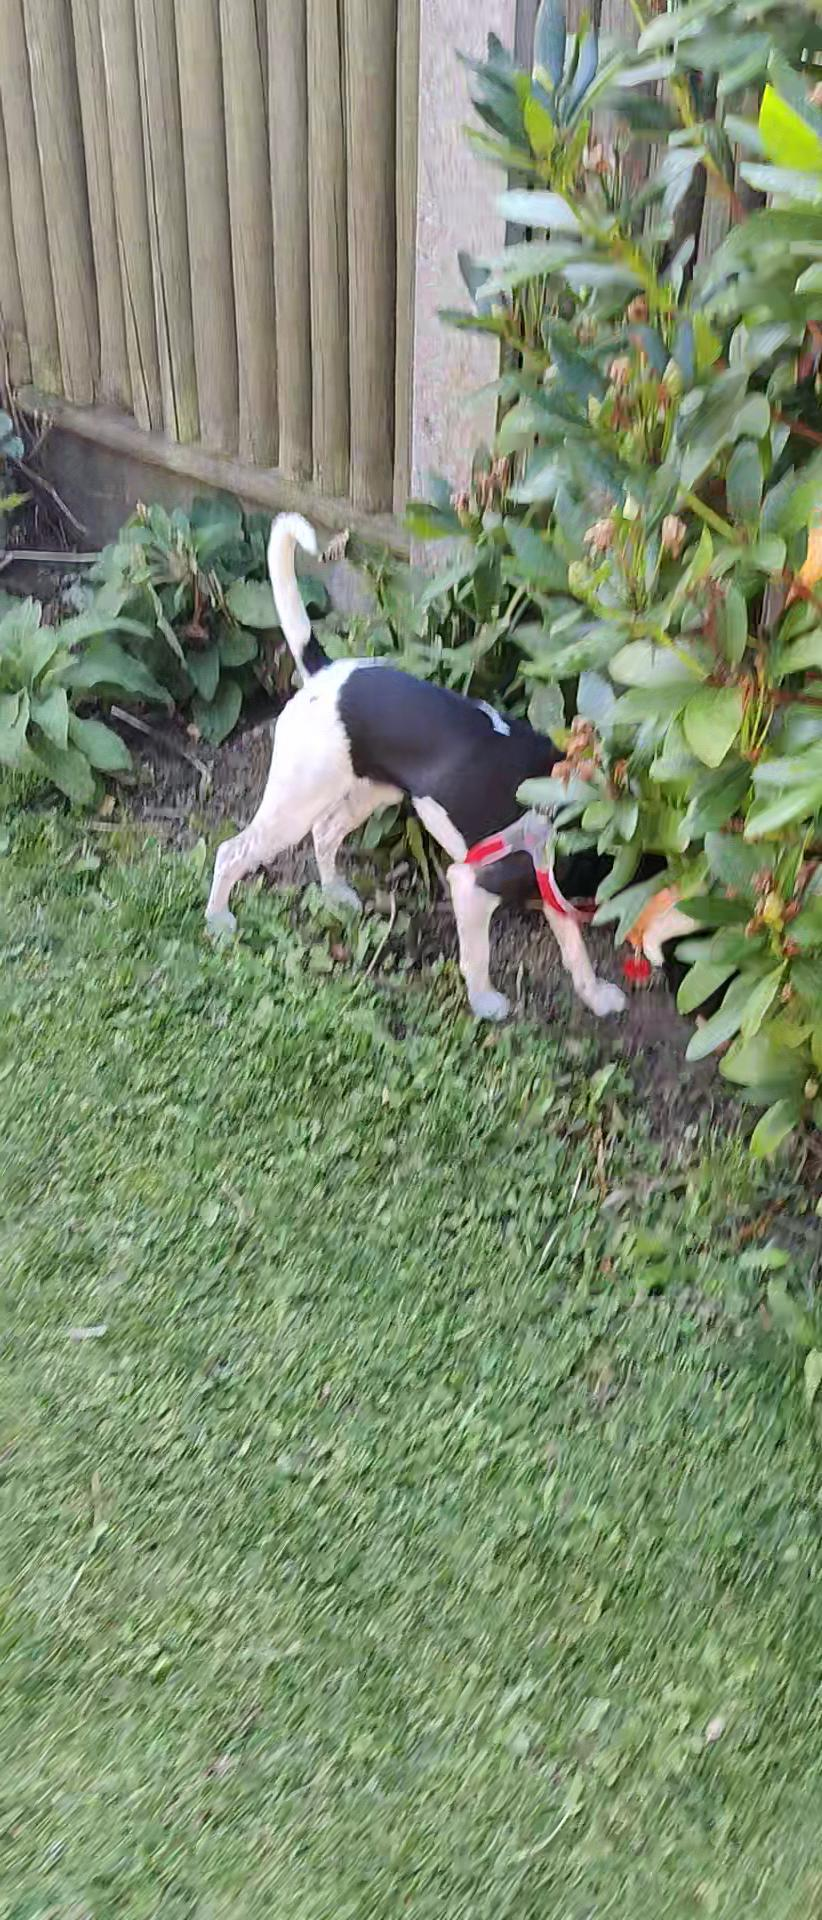Dog: (162, 482, 782, 1065)
